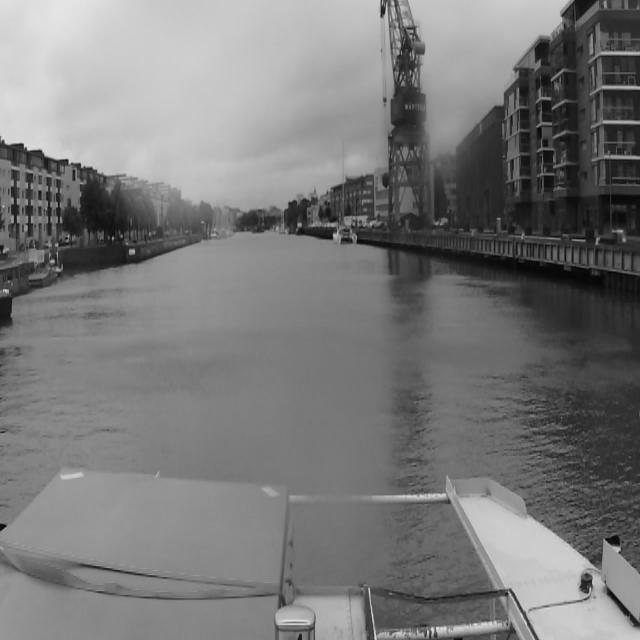ship: (330, 135, 356, 244), (250, 224, 264, 234)
